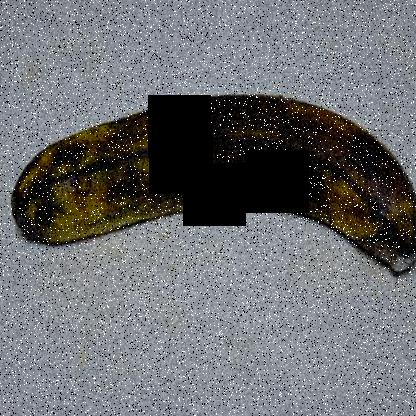overripe: (7, 68, 415, 295)
